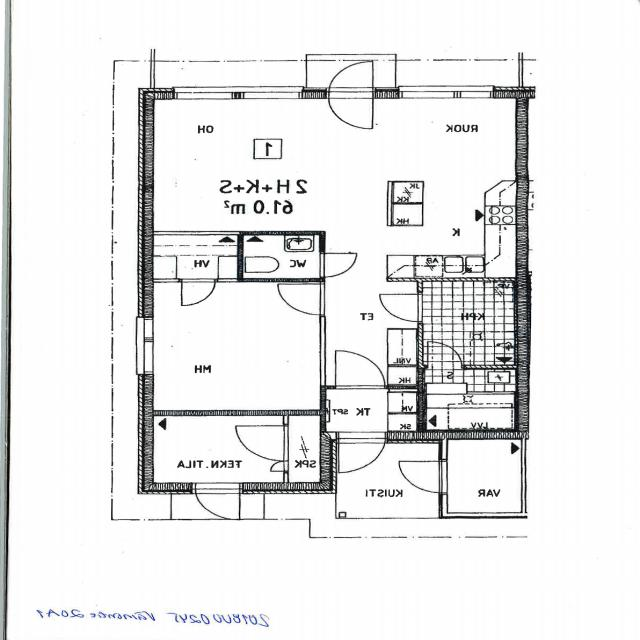door: (340, 430, 385, 476), (336, 350, 385, 390), (233, 426, 289, 460), (195, 482, 240, 524), (328, 88, 373, 130), (328, 56, 373, 98), (393, 461, 448, 493), (276, 285, 326, 315), (378, 294, 424, 321), (428, 341, 462, 369), (182, 277, 214, 305), (320, 254, 359, 276), (269, 461, 289, 471)
